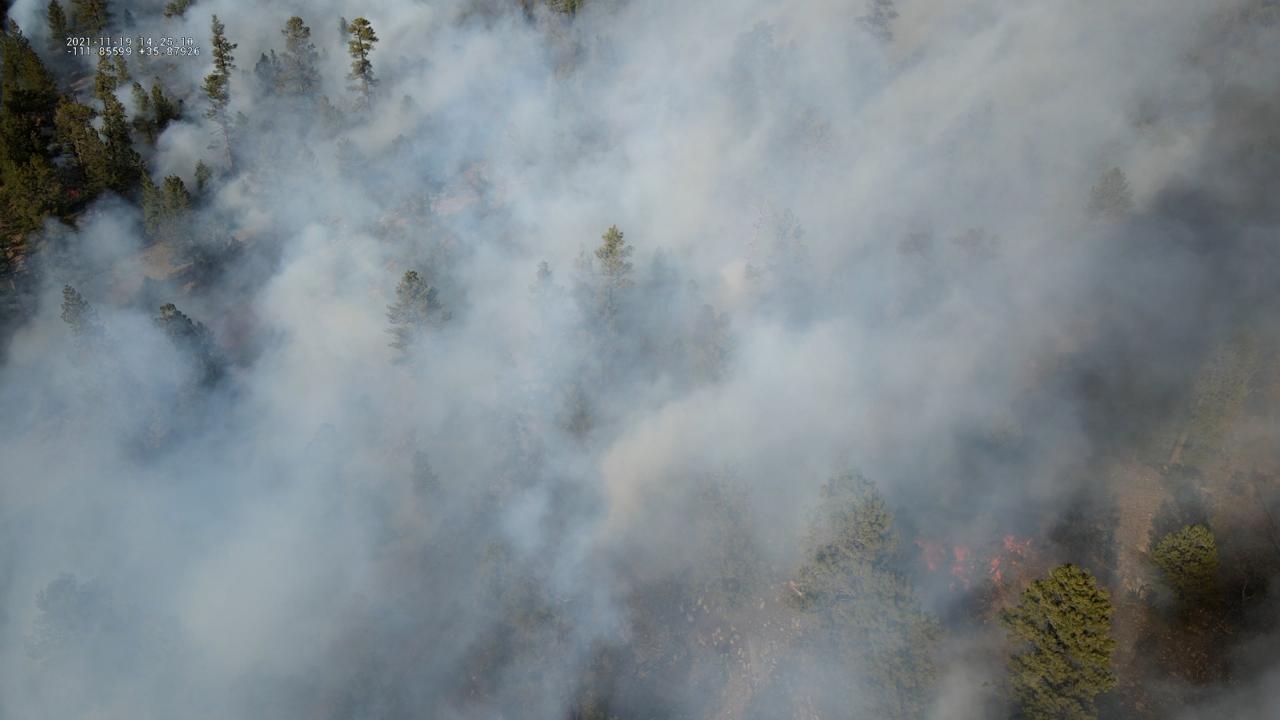fire: (910, 536, 974, 594), (985, 532, 1033, 586), (64, 189, 81, 199)
smoke: (0, 0, 1280, 720)
